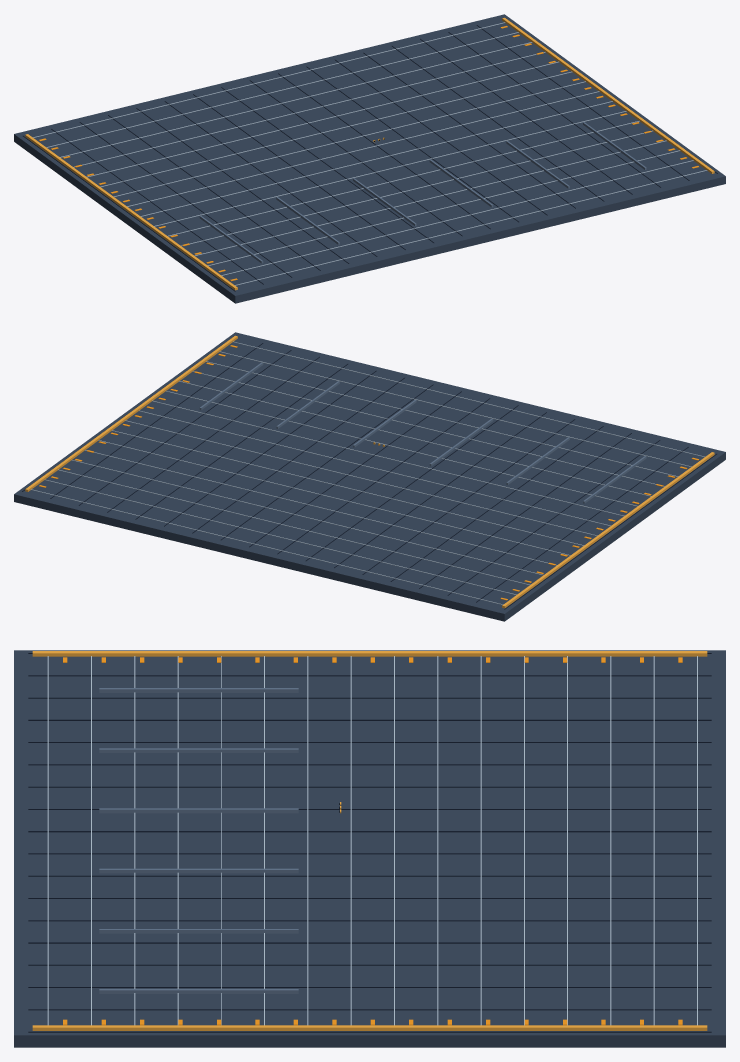
Rendered from 00_L90_OrbitalPropulsionQualificationDeck.fbx.
3 views of the same model, one above another, from view 1: azimuth 30°, elevation 25°; view 2: azimuth 150°, elevation 25°; view 3: azimuth 270°, elevation 25° (orthographic). The views are drawn at different scales.
Visible parts, largest first — view 1: L90_OrbitalPropulsionQualificationDeck; view 2: L90_OrbitalPropulsionQualificationDeck; view 3: L90_OrbitalPropulsionQualificationDeck.
Part boxes in pixels (box(x1,y1,x2,y2)): L90_OrbitalPropulsionQualificationDeck: box(14, 14, 725, 303); L90_OrbitalPropulsionQualificationDeck: box(14, 332, 725, 621); L90_OrbitalPropulsionQualificationDeck: box(14, 650, 725, 1047).
Size of the model in its own units: 3200 by 190 by 2500.
